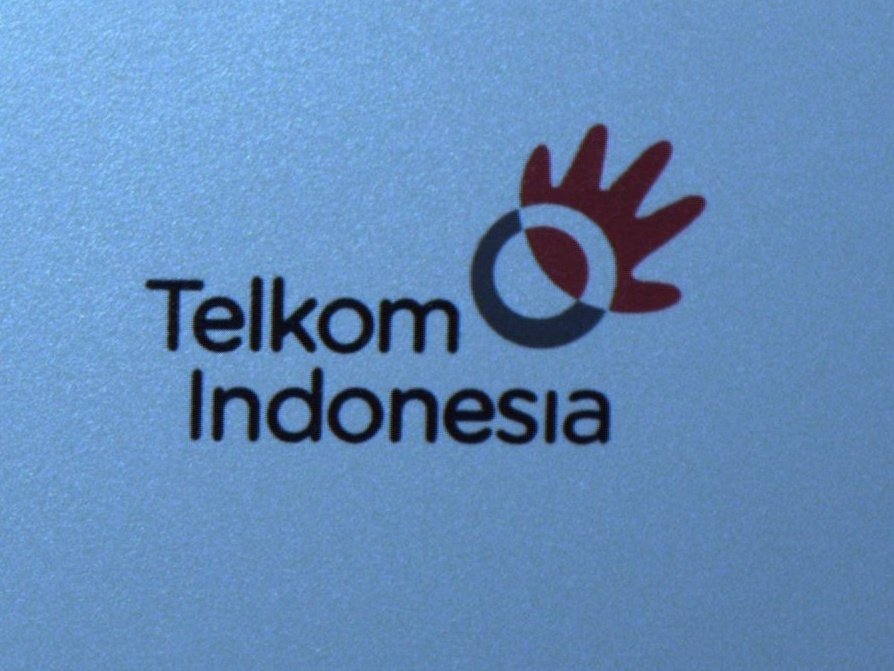BQ_IndonTelkom: (130, 113, 713, 450)
